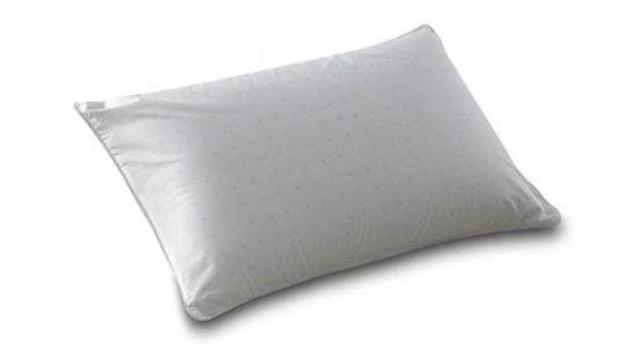pillow: (74, 22, 562, 324)
